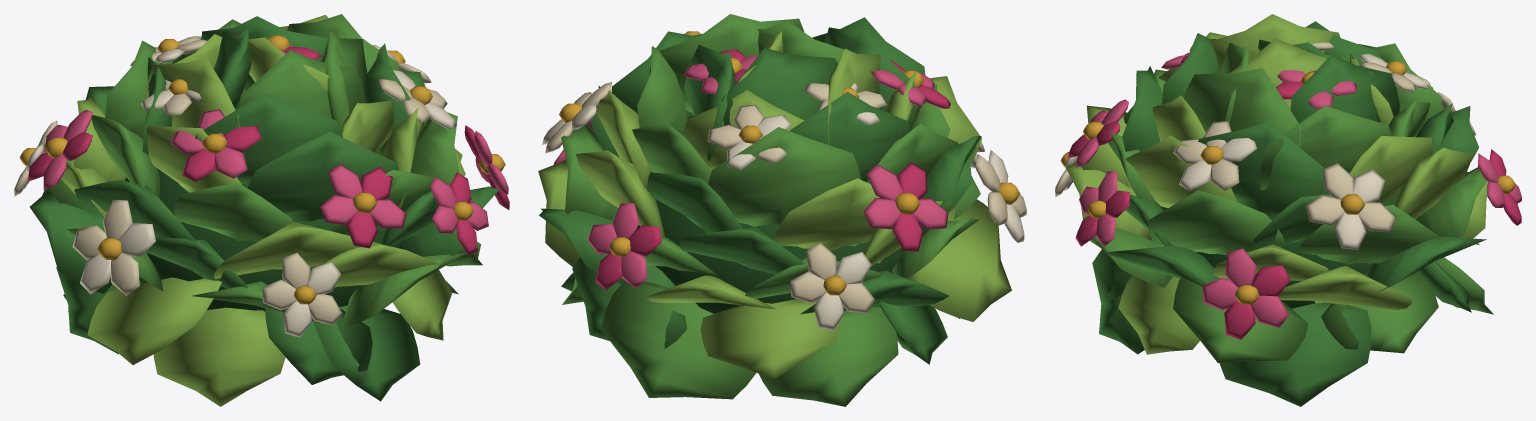
The model's file is storybook-flowering-shrub.glb.
3 renders of one model, left to right at view 1: azimuth 30°, elevation 25°; view 2: azimuth 150°, elevation 25°; view 3: azimuth 270°, elevation 25°, orthographic. The views are drawn at different scales.
Parts seen in each view (by area): view 1: storybook-flowering-shrub; view 2: storybook-flowering-shrub; view 3: storybook-flowering-shrub.
Part boxes in pixels (x1,y1,x2,y2): storybook-flowering-shrub: (14,14,509,406); storybook-flowering-shrub: (538,14,1026,406); storybook-flowering-shrub: (1055,14,1521,406).
Size of the model in its own units: 1.11 by 0.8049 by 1.09.
